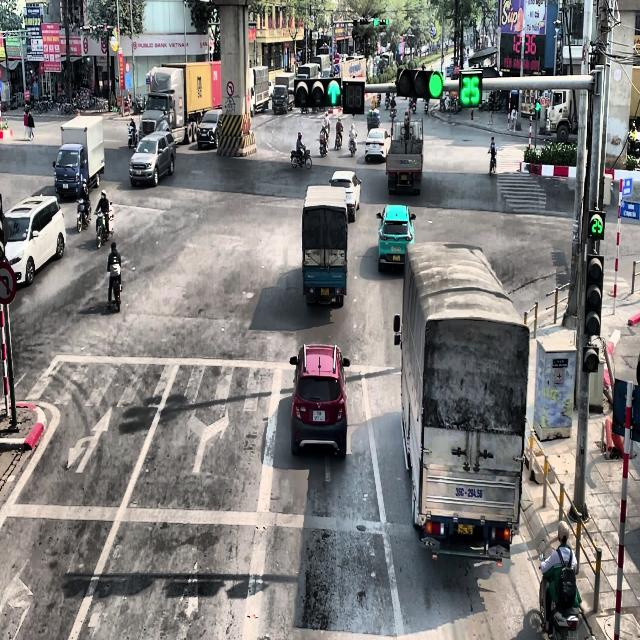lisence_plate: (454, 484, 484, 502), (457, 521, 474, 536), (311, 408, 326, 422), (319, 286, 330, 298), (394, 255, 401, 264), (401, 174, 408, 181)
